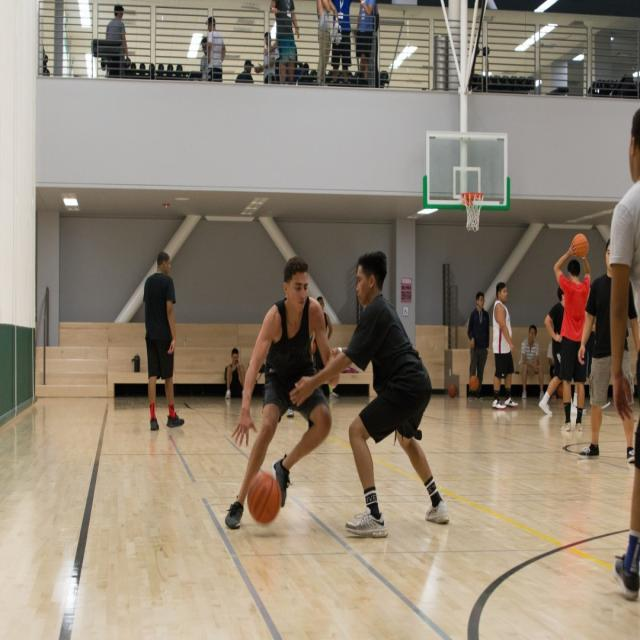body: (286, 247, 452, 540), (224, 253, 342, 531), (607, 101, 640, 602), (576, 234, 640, 464), (140, 251, 186, 433), (552, 240, 592, 434), (537, 285, 578, 418), (491, 280, 519, 411), (466, 290, 490, 402), (269, 0, 299, 85), (569, 322, 597, 412), (100, 5, 132, 78), (312, 295, 334, 400), (518, 324, 546, 401), (330, 0, 354, 87), (316, 0, 338, 88), (354, 0, 376, 87), (206, 15, 227, 84), (224, 348, 246, 402), (256, 31, 276, 86), (370, 3, 380, 87), (546, 336, 559, 399), (235, 60, 255, 84), (198, 36, 208, 72)
